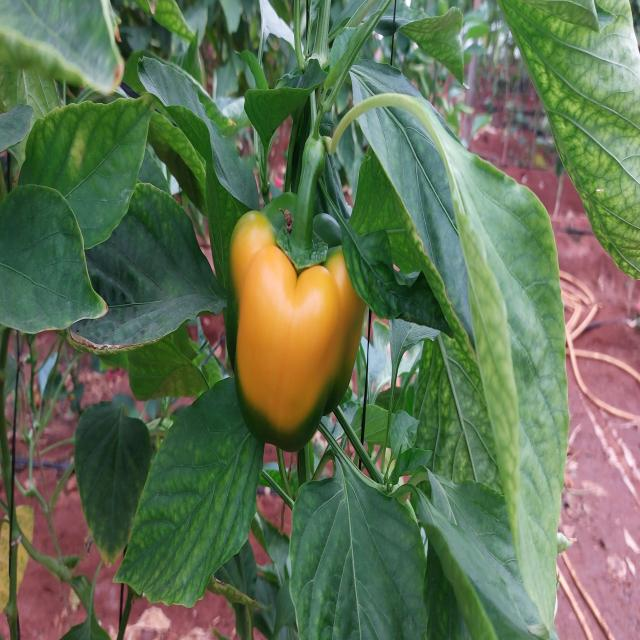Yellow-Ready-to-Harvest: (223, 208, 366, 430)
